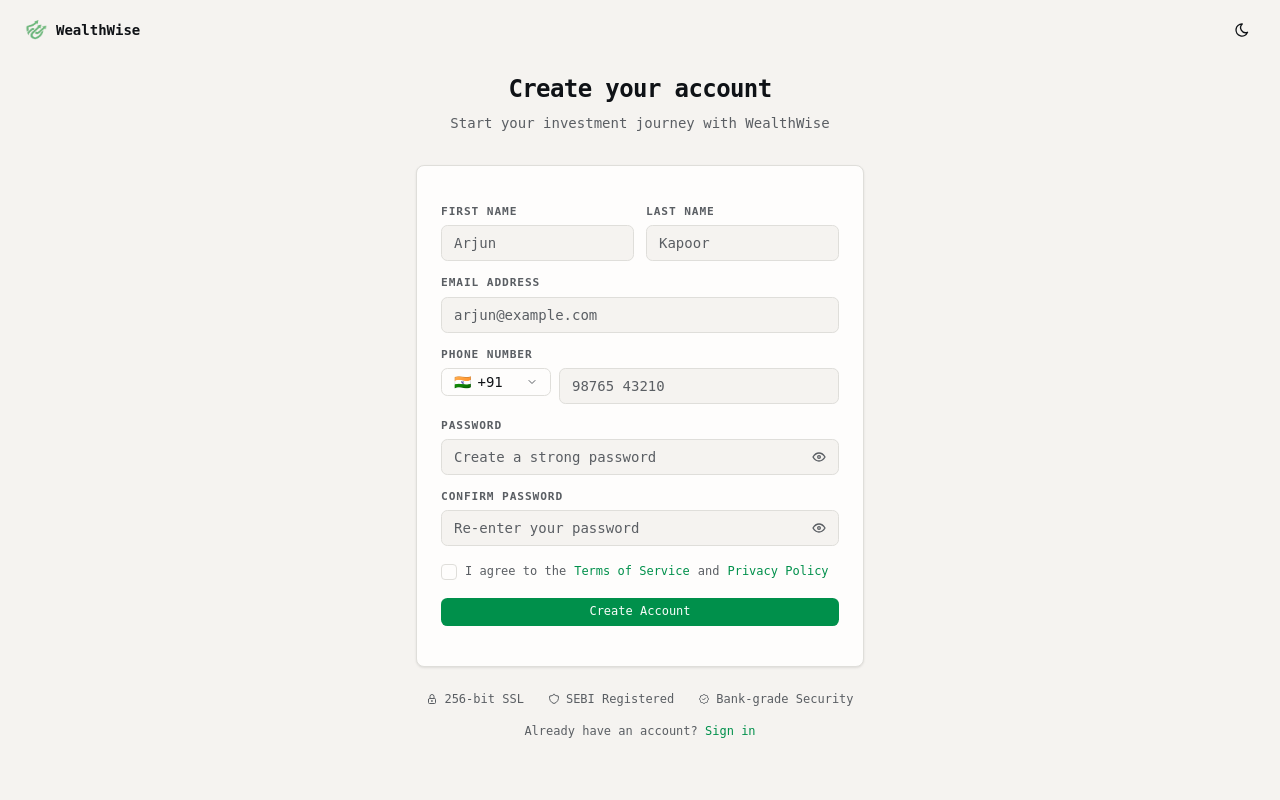
Test: SignUpPage › shows passwords do not match error
In the password field labelled "Password": (640, 457) [441,439,839,475], type "StrongPass1!"
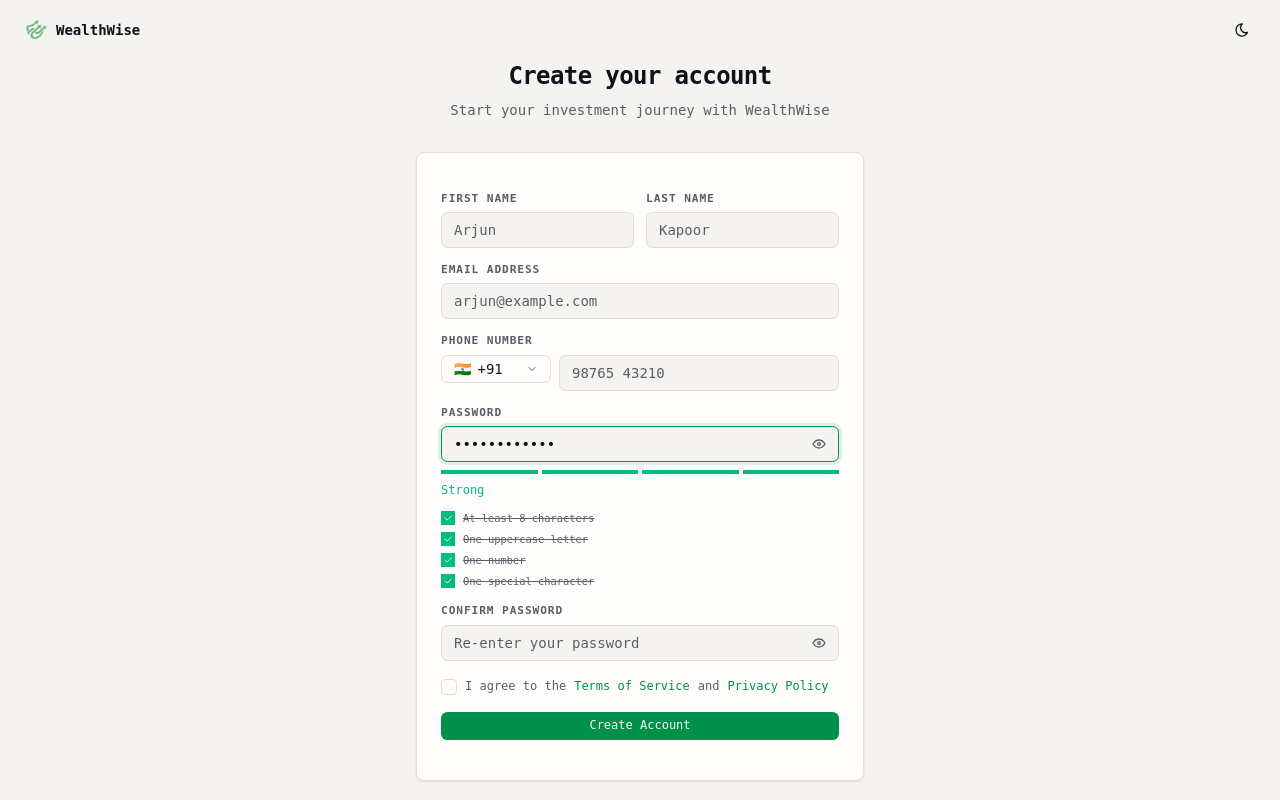
In the password field labelled "Confirm Password": (640, 643) [441,625,839,661], type "Different1!"
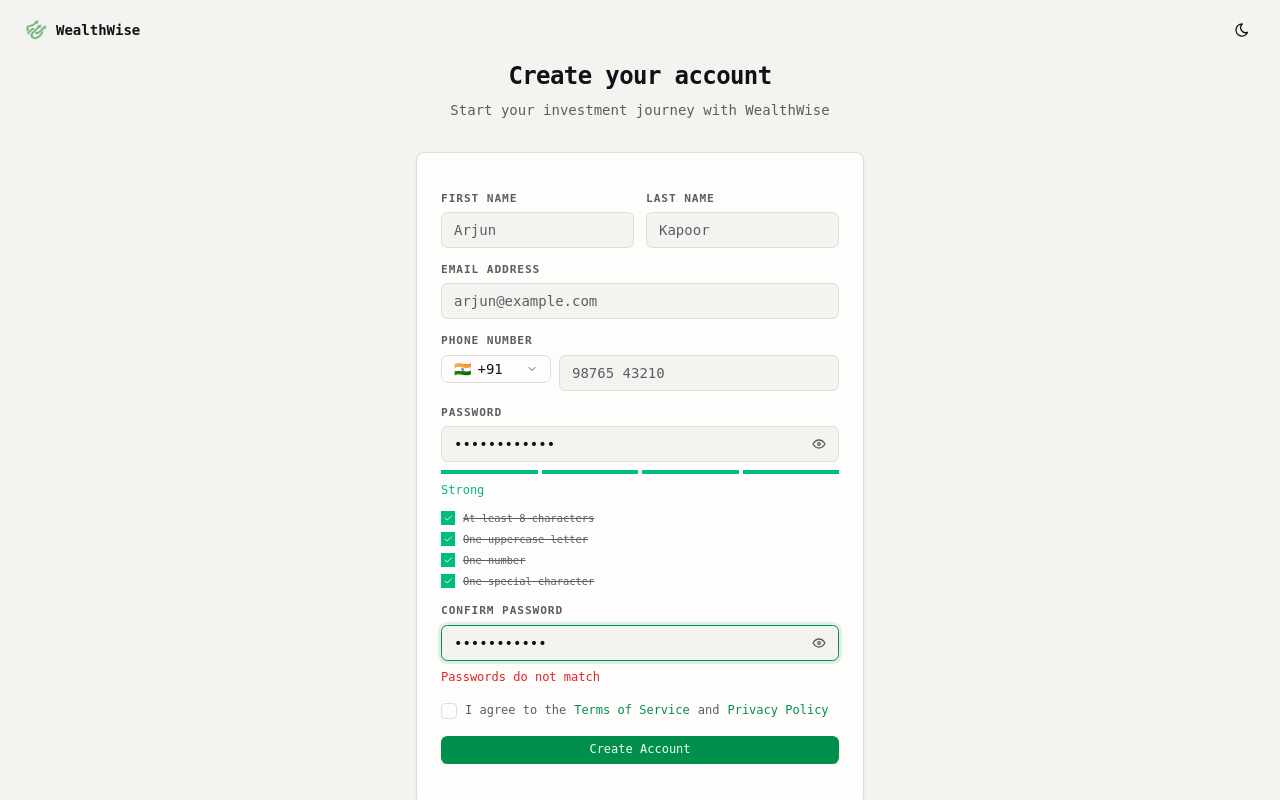
Result: the text "Passwords do not match" is shown at [441,670,600,684]
